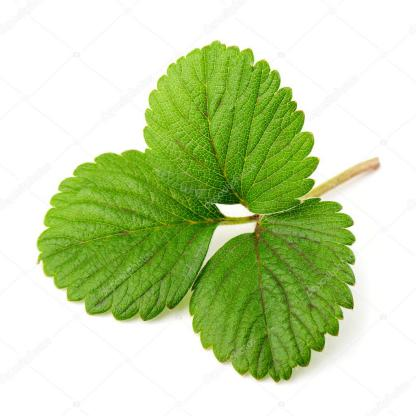Strawberry leaf: (32, 140, 221, 326), (188, 193, 360, 387), (139, 37, 317, 216)
